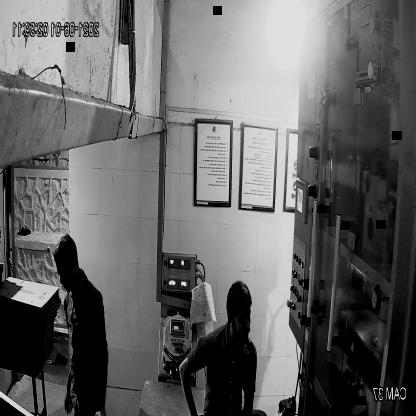no_goggles: (228, 307, 253, 329)
